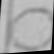no answer: (9, 3, 54, 52)
